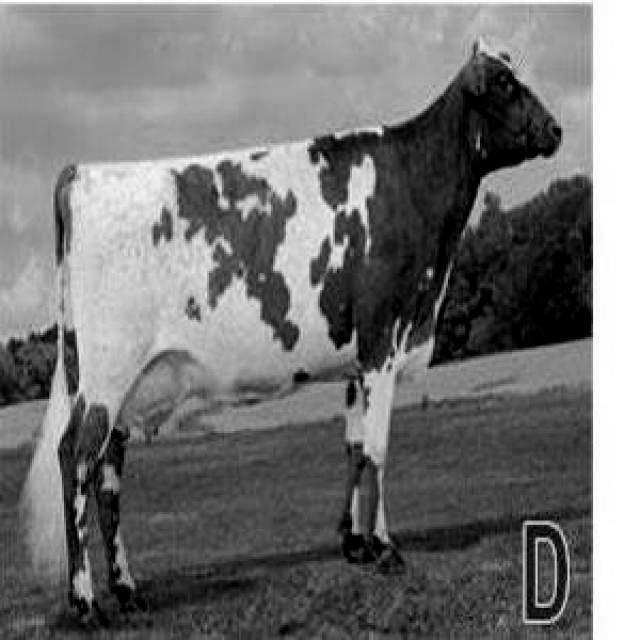COW: (26, 45, 561, 622)
